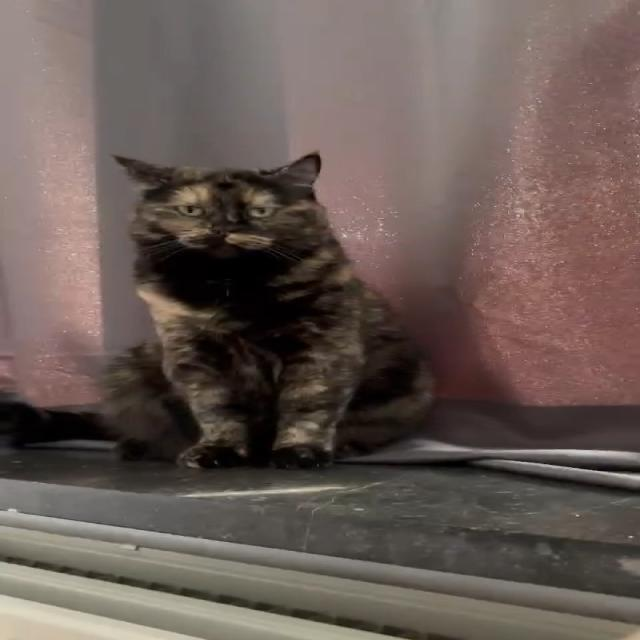authorized: (100, 150, 439, 470)
